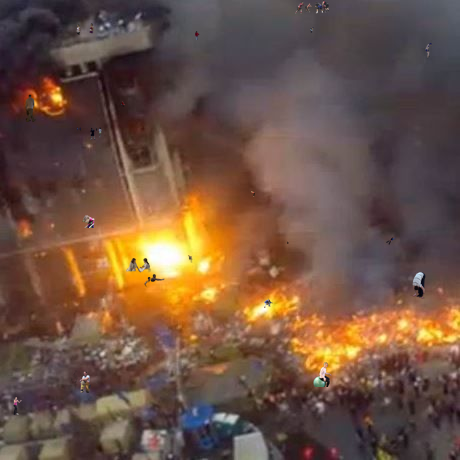Human: (144, 274, 165, 298), (70, 370, 91, 393), (295, 0, 329, 14), (313, 362, 332, 387), (410, 272, 426, 299), (126, 258, 151, 273), (75, 127, 102, 140), (25, 94, 36, 122), (76, 23, 94, 35), (82, 215, 97, 228), (13, 397, 22, 415), (425, 43, 432, 59), (264, 297, 274, 308), (386, 237, 396, 245), (113, 101, 125, 107), (188, 255, 195, 263), (195, 31, 200, 40), (251, 191, 255, 197), (310, 27, 314, 33), (287, 240, 289, 244)
